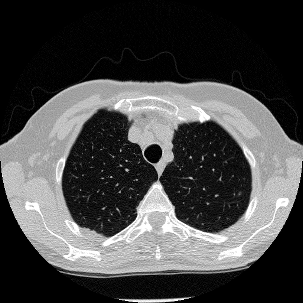nodule: (238, 191, 242, 195)
